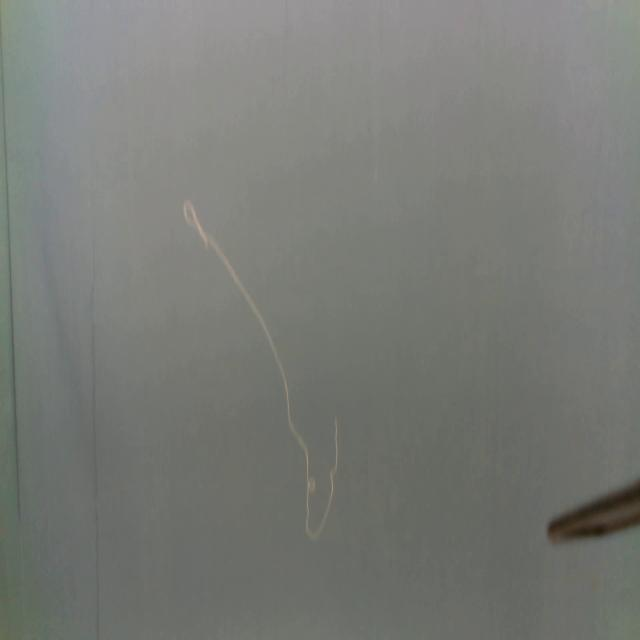crease: (0, 3, 24, 528), (90, 235, 102, 640)
